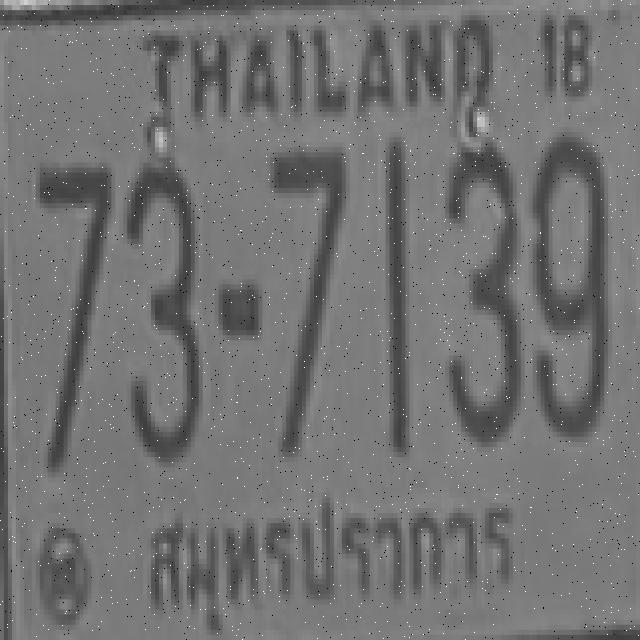0: (528, 132, 604, 325)
3: (441, 142, 517, 442), (123, 160, 199, 460)
7: (268, 144, 344, 358), (268, 144, 344, 332), (36, 162, 108, 356)
9: (528, 134, 604, 434), (528, 180, 604, 434)
SamutPrakan: (127, 483, 521, 638)
